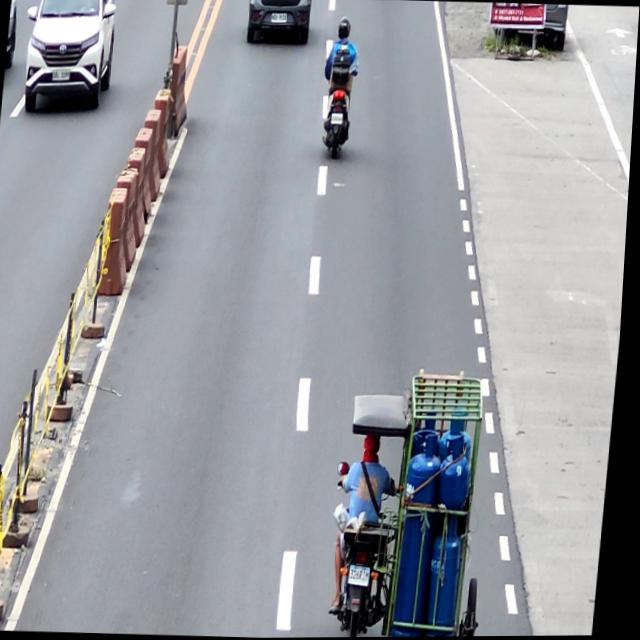Car: (244, 0, 313, 47)
License-Plate: (354, 565, 378, 588), (270, 12, 287, 24), (332, 113, 345, 126)
Motorcycle: (320, 46, 358, 157)
Tricycle: (331, 392, 506, 638)
